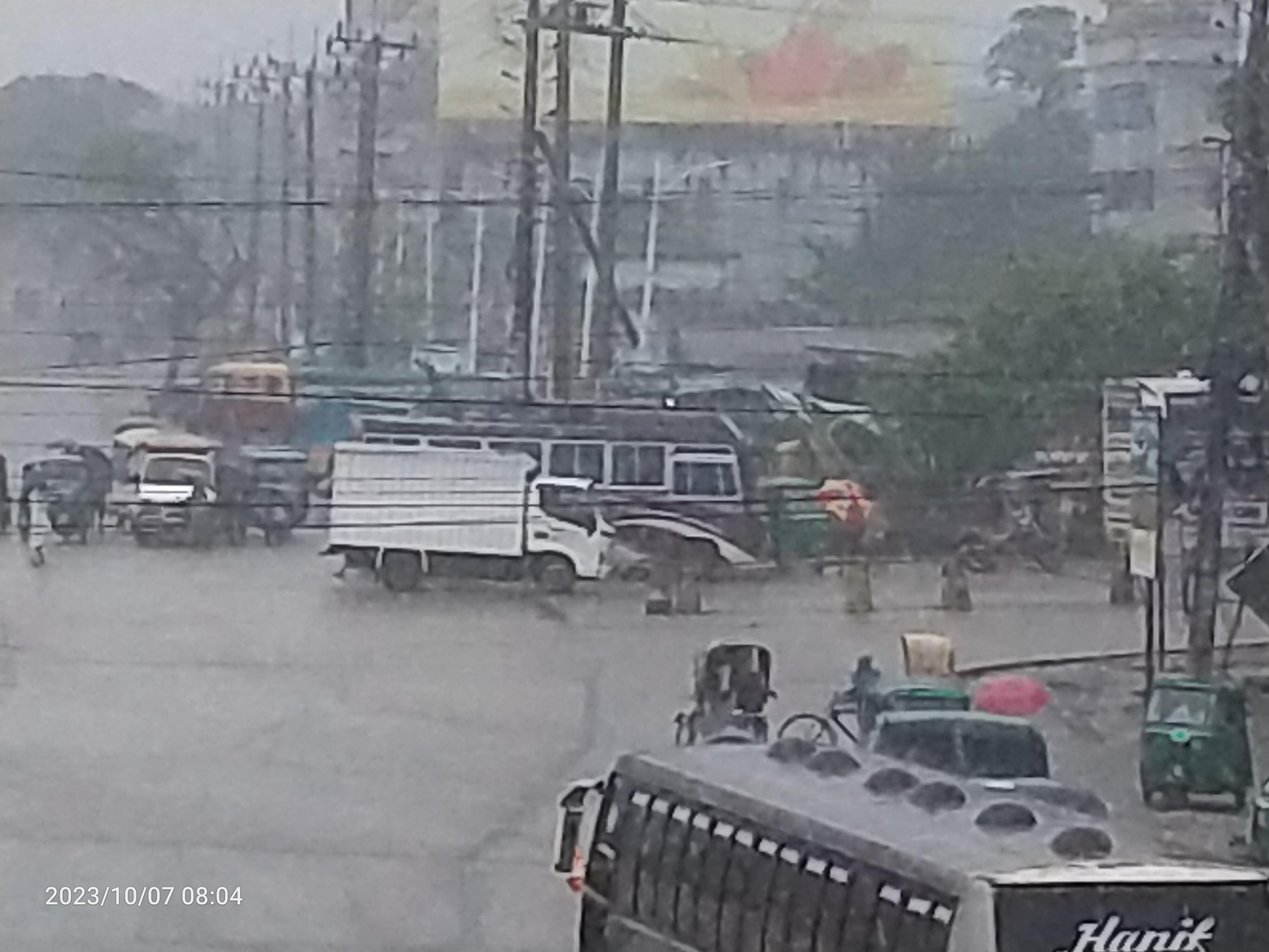Bus: (508, 722, 1269, 952), (1074, 355, 1269, 578)
Car: (771, 622, 982, 760), (641, 621, 787, 769), (97, 418, 245, 547)
Truck: (307, 420, 633, 609)
